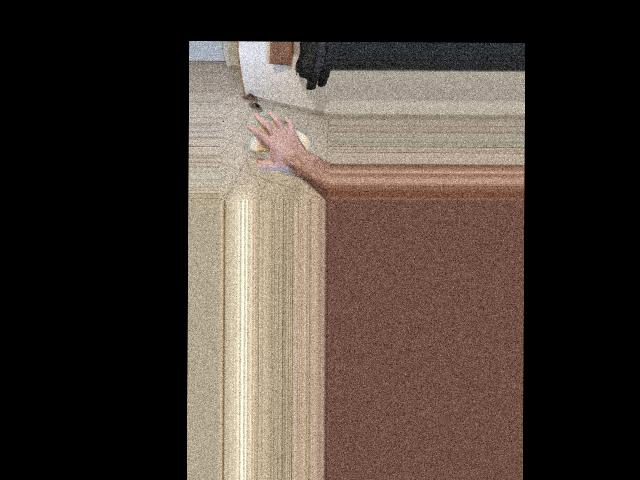cheese: (246, 111, 312, 176)
